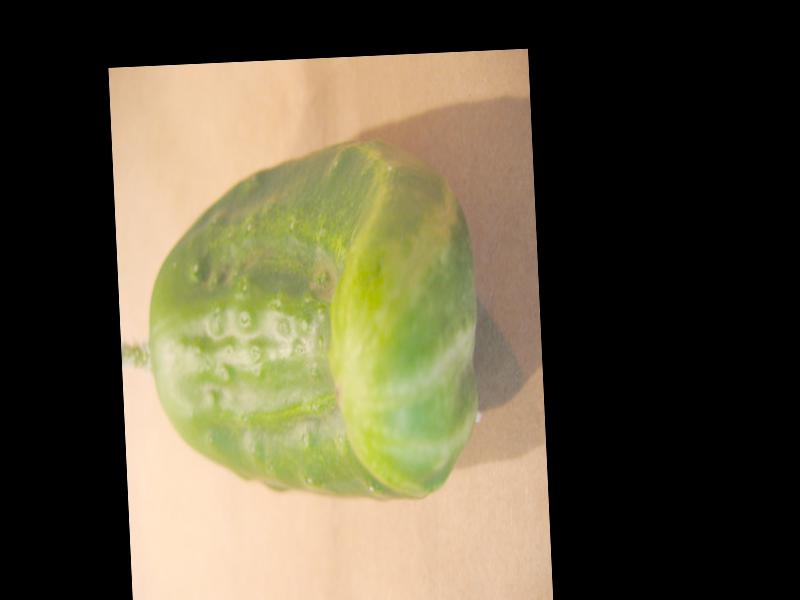Cucumber: (139, 139, 485, 514)
